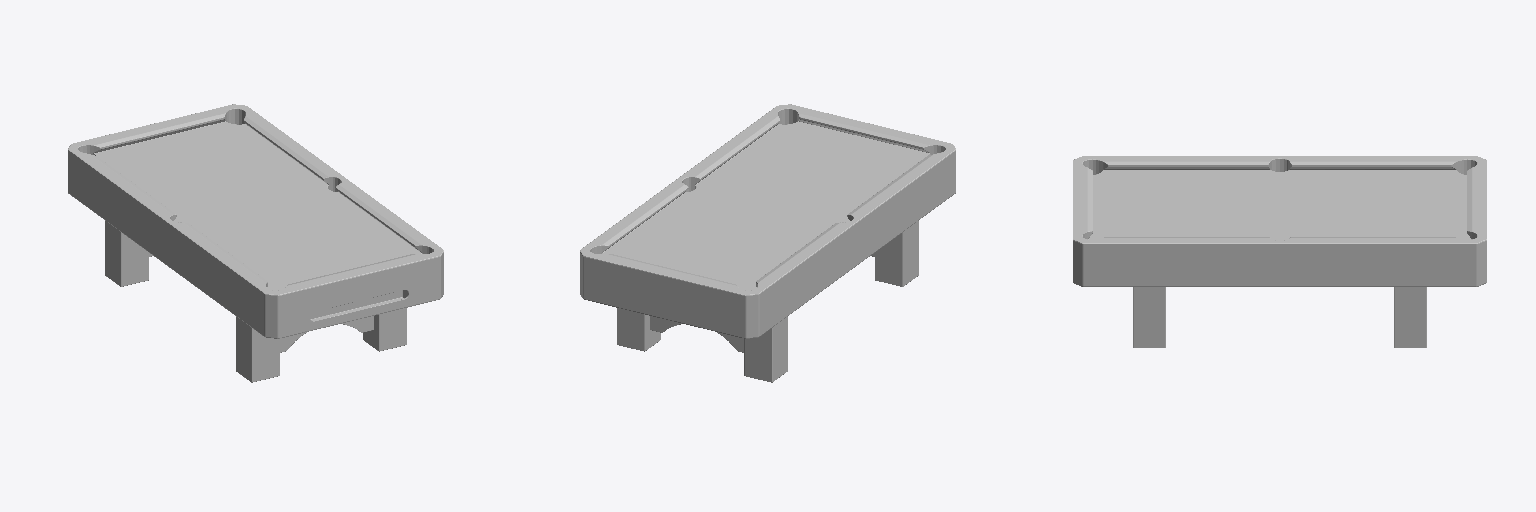
Rendered from poolTableNoBalls2.obj.
3 views of the same model, side by side, from view 1: azimuth 30°, elevation 25°; view 2: azimuth 150°, elevation 25°; view 3: azimuth 270°, elevation 25° (orthographic).
Visible parts, largest first — view 1: 10523_Pool_Table_v1_L3; view 2: 10523_Pool_Table_v1_L3; view 3: 10523_Pool_Table_v1_L3.
Part boxes in pixels (left/top/right/bottom): 10523_Pool_Table_v1_L3: left=68, top=104, right=443, bottom=382; 10523_Pool_Table_v1_L3: left=580, top=104, right=955, bottom=382; 10523_Pool_Table_v1_L3: left=1073, top=156, right=1486, bottom=347.
Size of the model in its own units: 127 by 76.2 by 254.